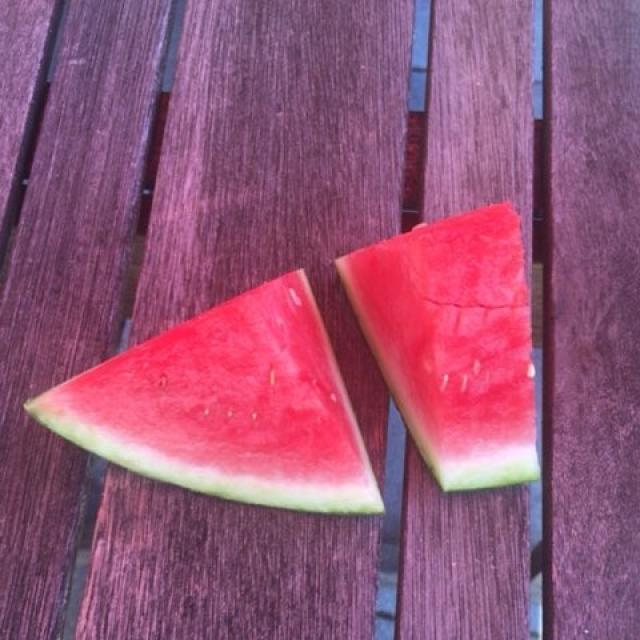watermelon-fresh: (35, 205, 528, 494)
